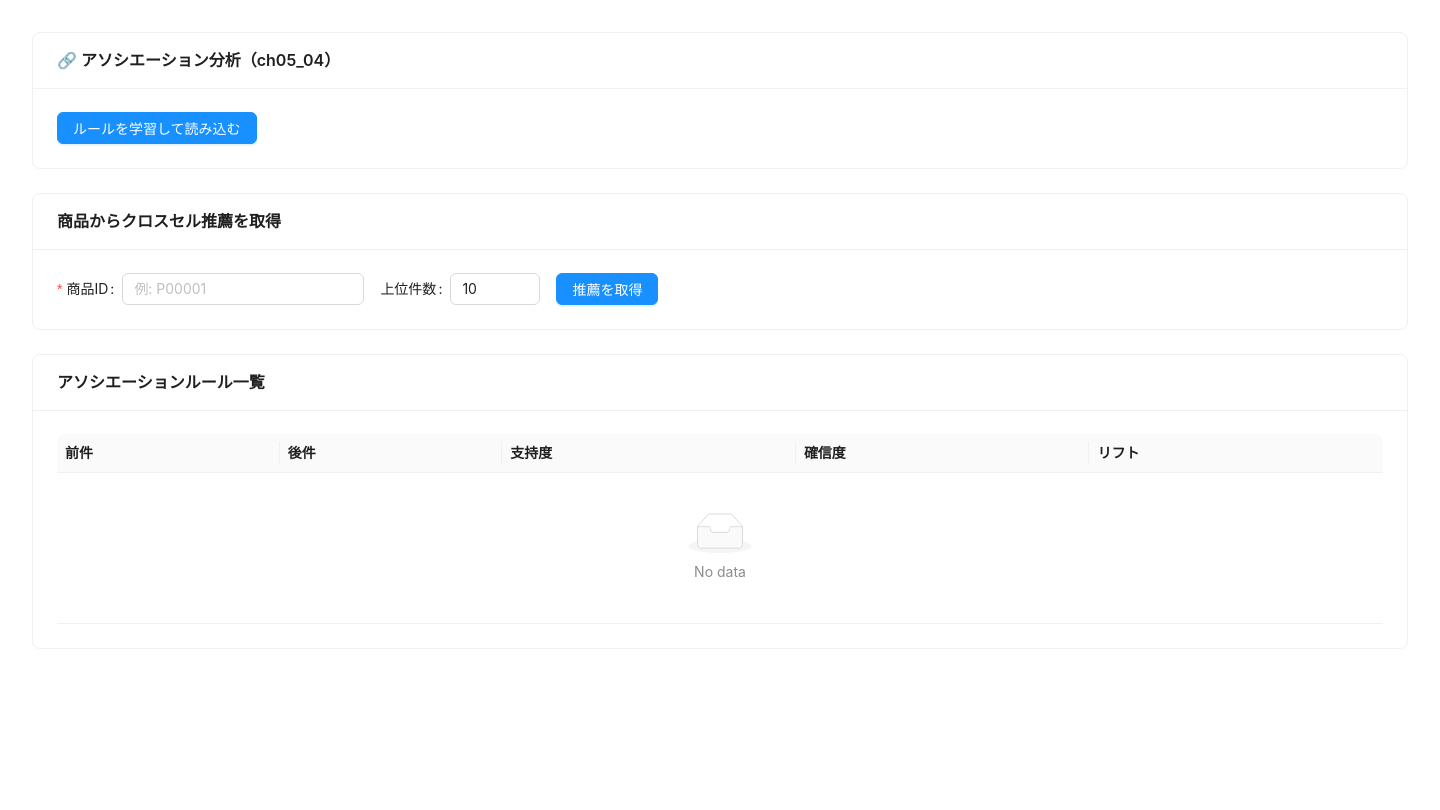
Test: AssociationPage › trains and loads association rules
Click the button "ルールを学習して読み込む" at point(157, 128), box [57,112,257,144]
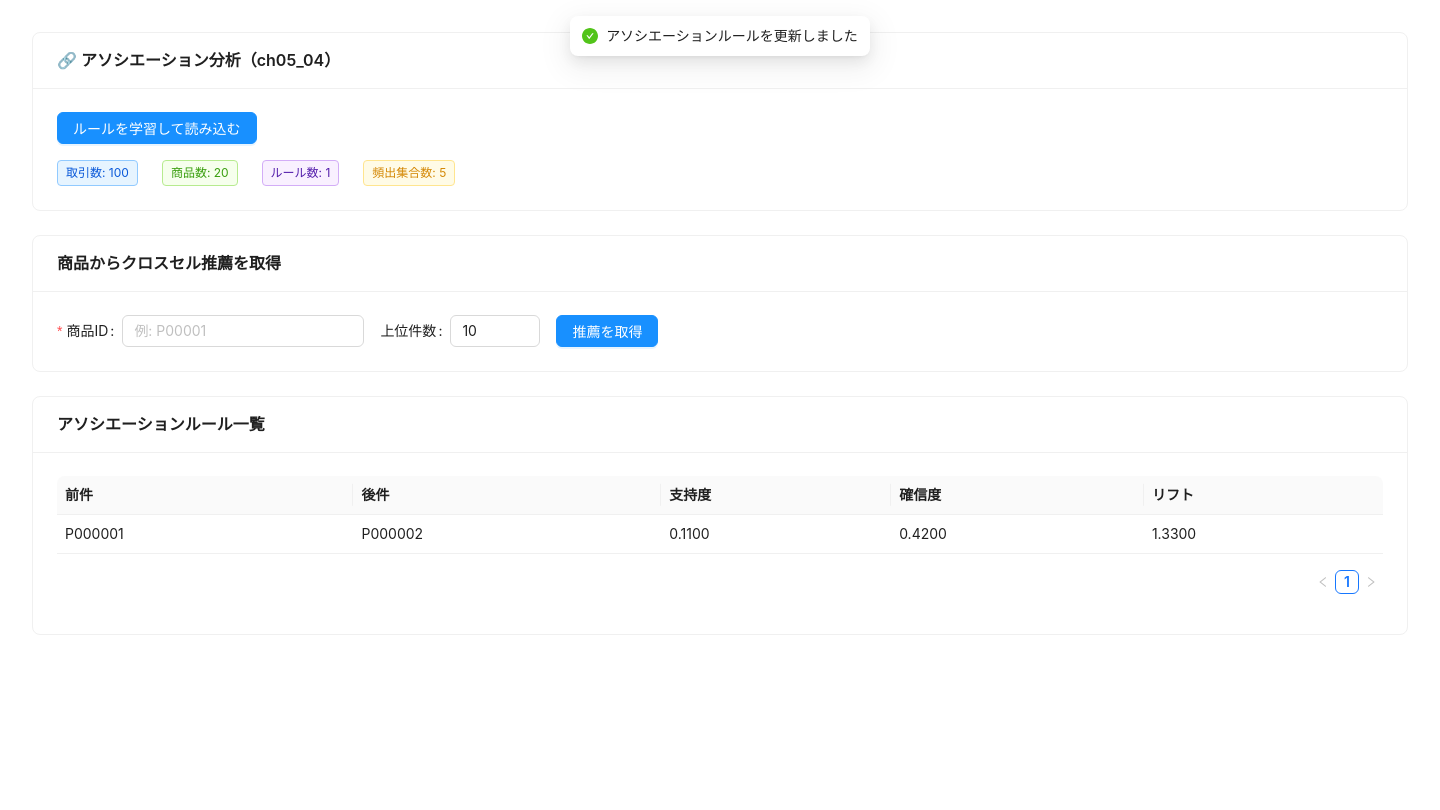
Result: the text "ルール数: 1" is shown at [262,160,339,186]
